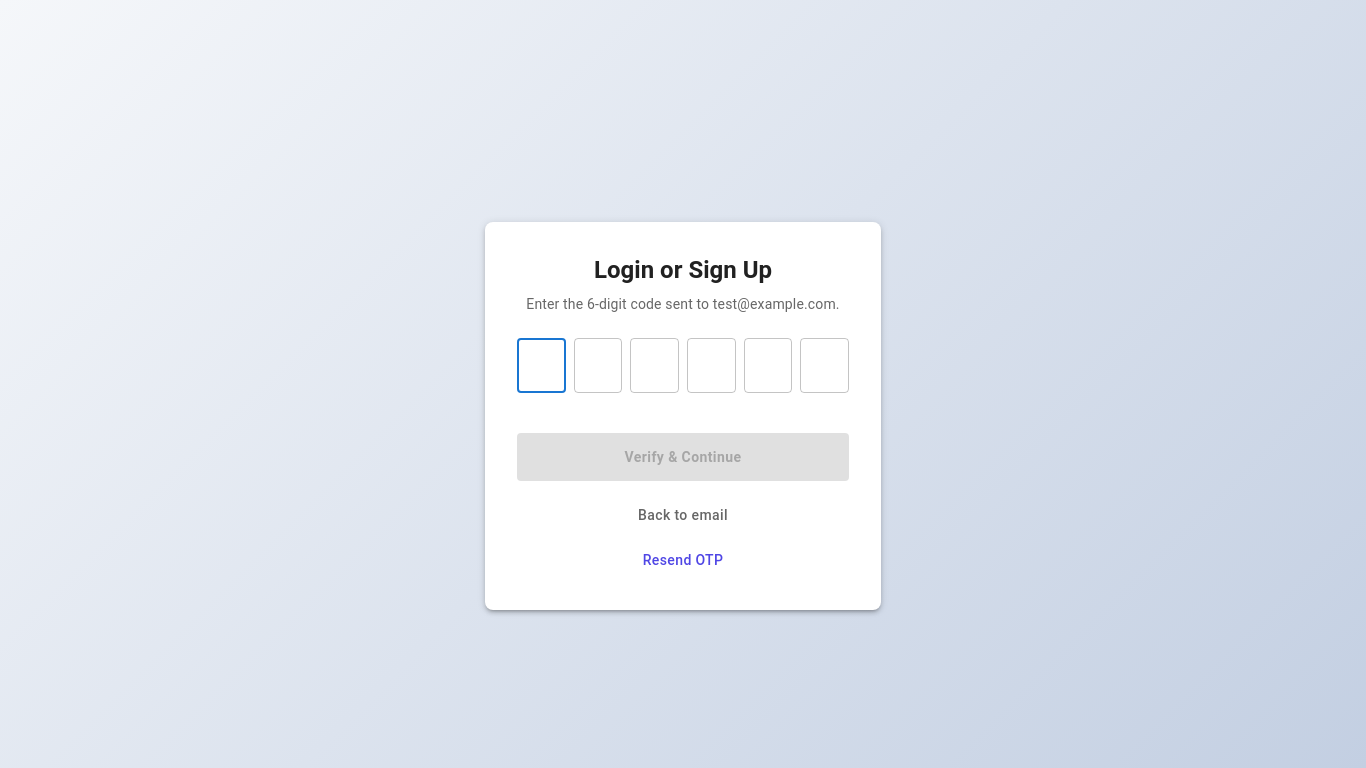
Test: OtpPage › Resend OTP › should display rate limit error message on 429 response
Click the button "Resend OTP": (683, 560) [517,542,849,578]
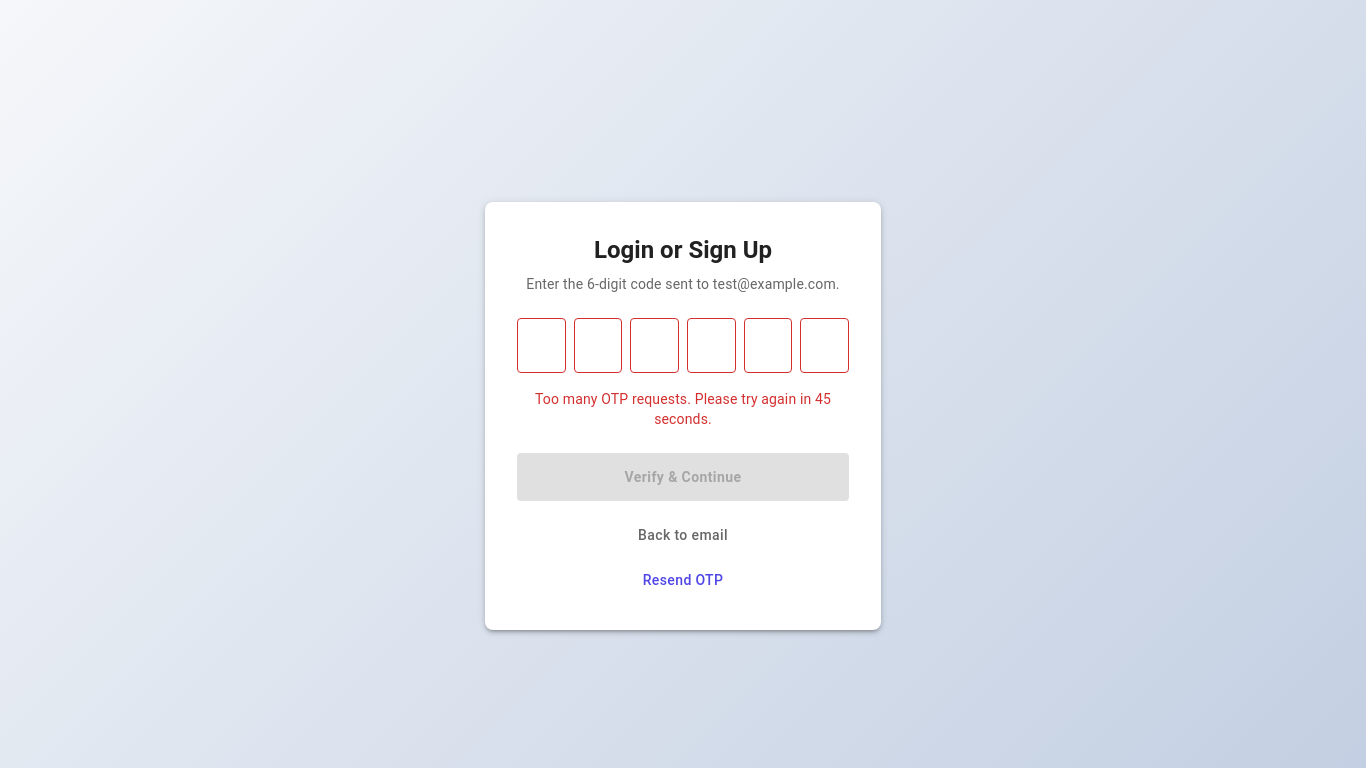
expect the text "Too many OTP requests. Please try again in 45 seconds." is shown: met, box [517,389,849,429]
